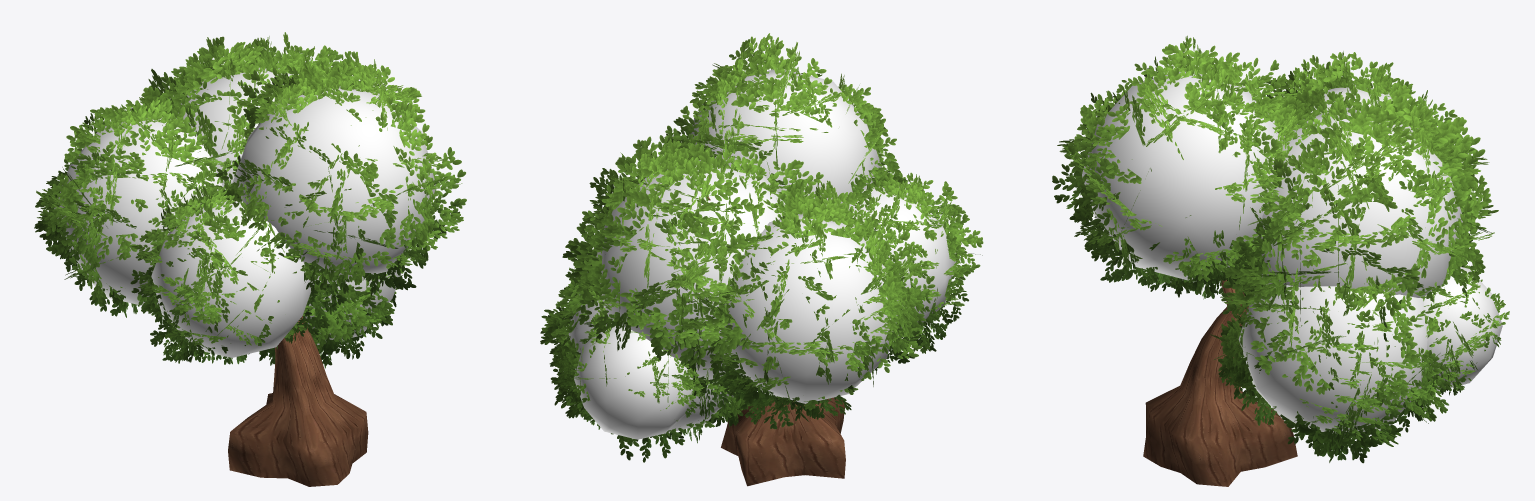
File: cardtree_71924_s45504.gltf
3 views of the same model, side by side, from view 1: azimuth 30°, elevation 25°; view 2: azimuth 150°, elevation 25°; view 3: azimuth 270°, elevation 25° (orthographic). The views are drawn at different scales.
Visible parts, largest first — view 1: cardtree_71924_s45504_leaves_LOD0, cardtree_71924_s45504_shadow_LOD0, cardtree_71924_s45504_trunk_LOD0; view 2: cardtree_71924_s45504_leaves_LOD0, cardtree_71924_s45504_shadow_LOD0, cardtree_71924_s45504_trunk_LOD0; view 3: cardtree_71924_s45504_leaves_LOD0, cardtree_71924_s45504_shadow_LOD0, cardtree_71924_s45504_trunk_LOD0.
Boxes of the visible parts, <box> form: cardtree_71924_s45504_leaves_LOD0: <box>34,32,466,368</box>; cardtree_71924_s45504_shadow_LOD0: <box>54,67,435,357</box>; cardtree_71924_s45504_trunk_LOD0: <box>216,74,368,486</box>; cardtree_71924_s45504_leaves_LOD0: <box>540,33,983,462</box>; cardtree_71924_s45504_shadow_LOD0: <box>566,68,956,439</box>; cardtree_71924_s45504_trunk_LOD0: <box>707,197,845,486</box>; cardtree_71924_s45504_leaves_LOD0: <box>1052,35,1509,463</box>; cardtree_71924_s45504_shadow_LOD0: <box>1082,71,1502,438</box>; cardtree_71924_s45504_trunk_LOD0: <box>1143,280,1297,486</box>.
Size of what is drawn, in the model's own units: 11.38 by 11.67 by 11.68.
3 materials, 2 textured.
